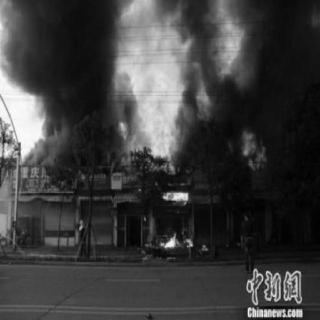Fire: (118, 72, 180, 176), (237, 119, 269, 172), (157, 228, 197, 252), (158, 187, 192, 205), (202, 240, 212, 252)
Smoke: (2, 3, 118, 161)
other: (20, 163, 112, 197), (75, 212, 91, 232)
